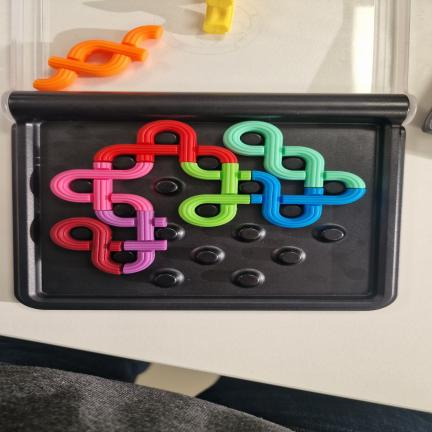B_SkyBlue: (251, 171, 365, 227)
E_Red: (95, 121, 237, 163)
F_Teal: (223, 121, 365, 188)
G_Pink: (51, 163, 153, 210)
H_Purple: (95, 210, 167, 273)
J_DarkRed: (51, 218, 123, 274)
K_YellowGreen: (179, 162, 251, 226)
board: (9, 91, 408, 310)
hinge: (7, 91, 418, 120)
pin: (277, 250, 302, 265), (196, 250, 219, 264), (113, 156, 135, 170), (155, 273, 176, 287), (155, 132, 177, 145), (283, 157, 305, 170), (156, 180, 178, 193), (197, 204, 219, 217), (70, 227, 92, 240), (322, 228, 344, 241), (113, 251, 135, 264), (237, 274, 259, 287), (240, 133, 263, 145), (198, 157, 219, 170), (71, 180, 92, 193), (324, 181, 345, 194), (281, 205, 302, 218), (156, 227, 177, 240), (238, 228, 260, 240), (114, 204, 134, 217), (240, 182, 260, 194)
